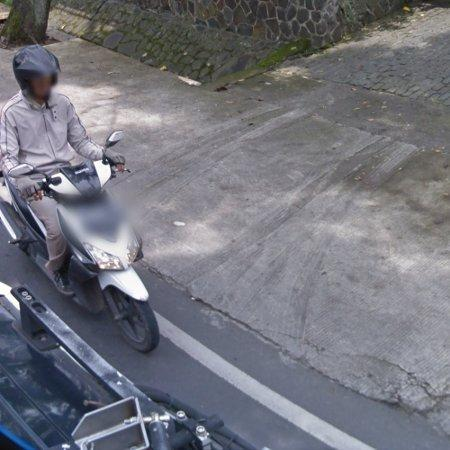motorcycles: (0, 154, 159, 354)
